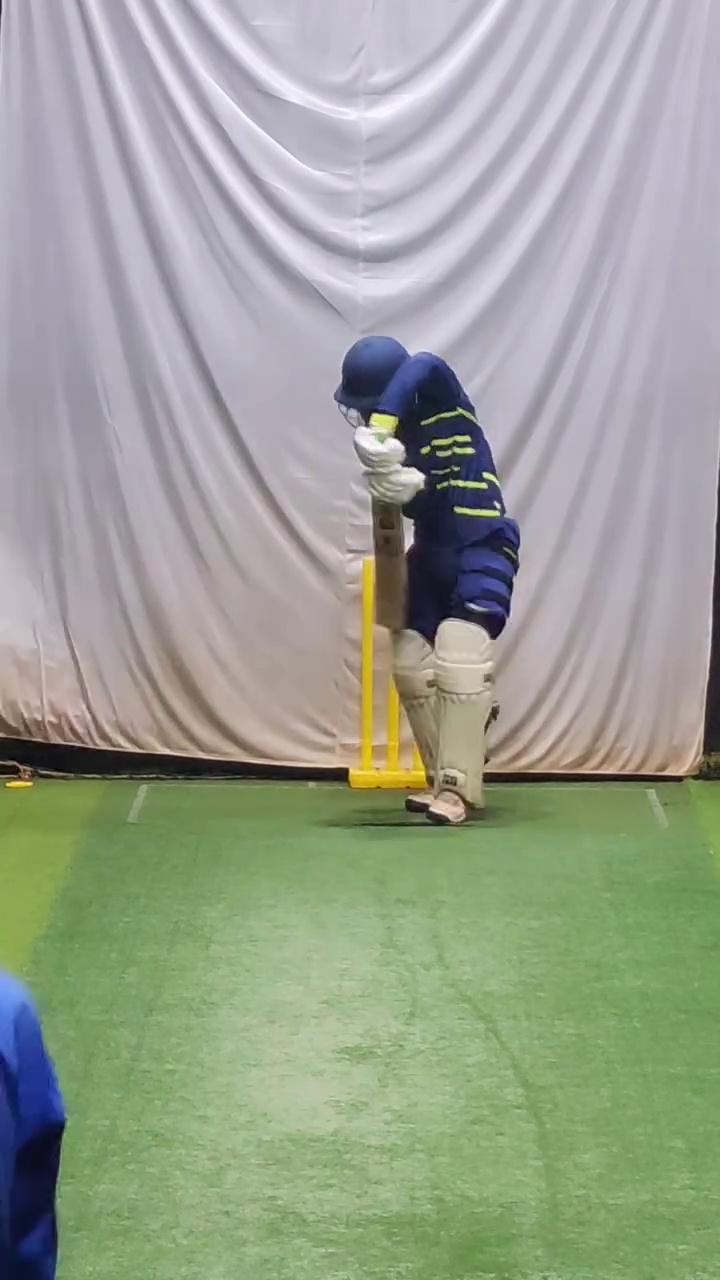bat: (370, 495, 407, 635)
